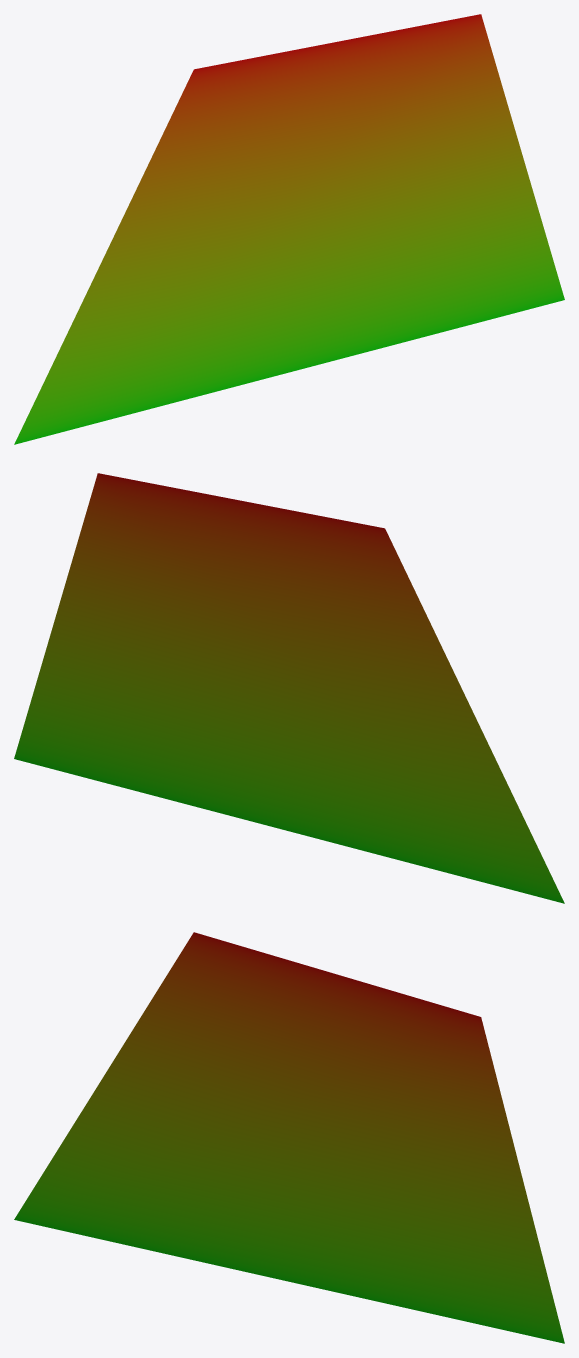
Rendered from Arrowhead Plant_LOD3_Var2_sjsmD.fbx.
3 views of the same model, one above another, from view 1: azimuth 30°, elevation 25°; view 2: azimuth 150°, elevation 25°; view 3: azimuth 330°, elevation 25° (orthographic).
Visible parts, largest first — view 1: _110f_Var2_LOD3; view 2: _110f_Var2_LOD3; view 3: _110f_Var2_LOD3.
Part boxes in pixels (x1=…): _110f_Var2_LOD3: x1=14, y1=14, x2=564, y2=444; _110f_Var2_LOD3: x1=14, y1=473, x2=564, y2=903; _110f_Var2_LOD3: x1=14, y1=932, x2=564, y2=1343.
Size of the model in its own units: 89.61 by 51.53 by 1.45e-05.
